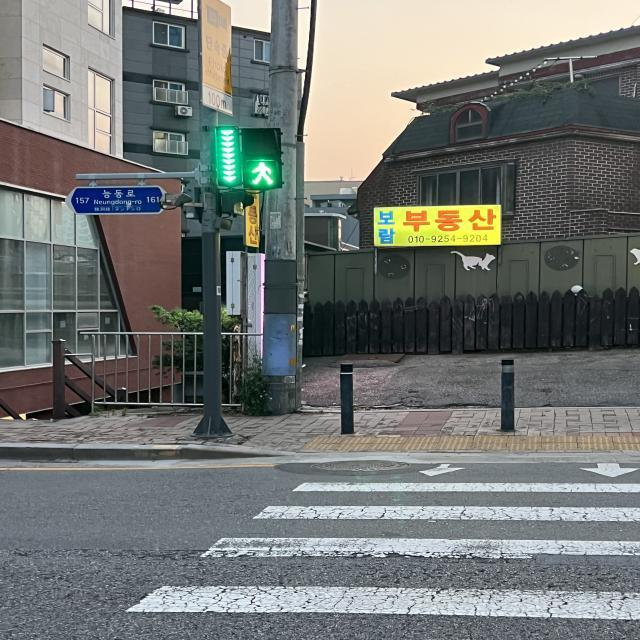crosswalk: (111, 446, 640, 640)
green-light: (190, 113, 309, 210)
